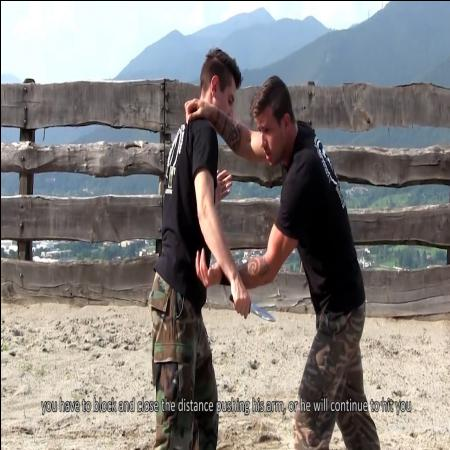long weapon: (224, 285, 278, 326)
